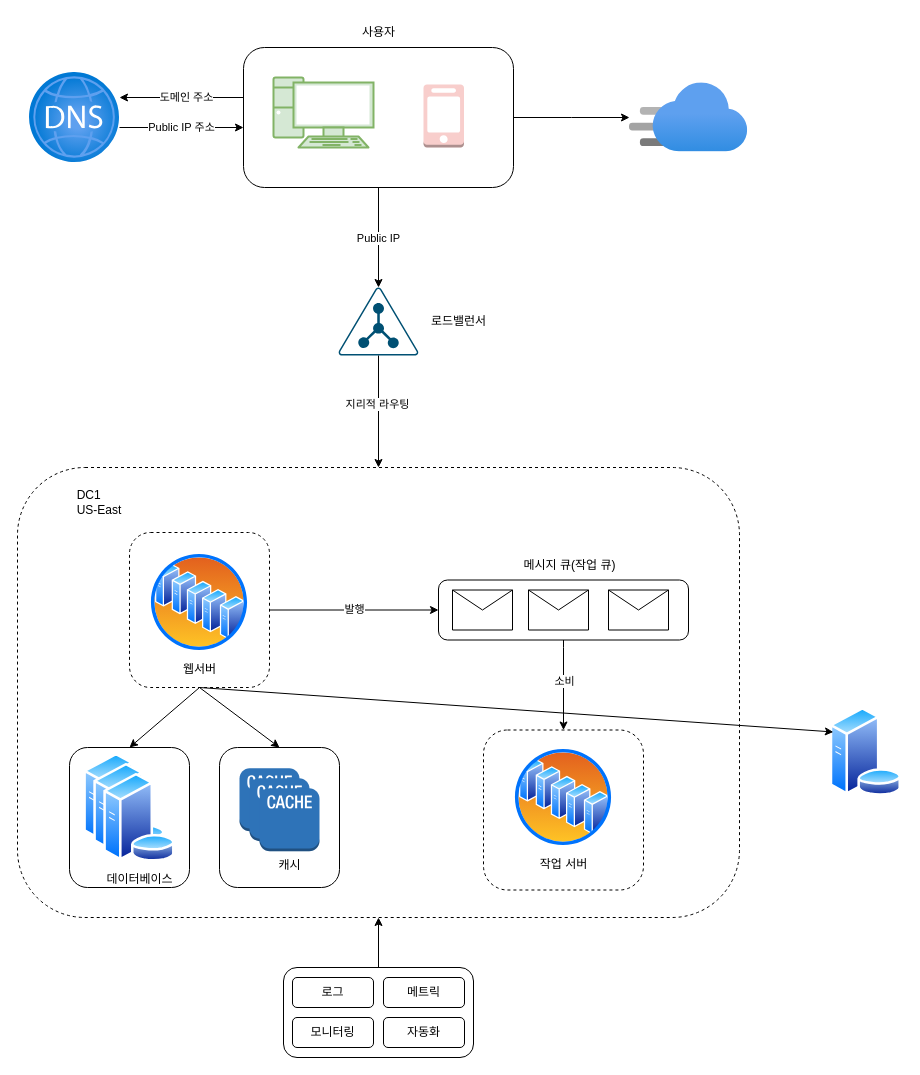
Image size: 920x1075. Some labels were removed from this diagram. Here are the shapes that lost their labels. From the top down, the centre of each, then its label:
At (x=323, y=112): "웹 브라우저".
At (x=443, y=116): "모바일 앱".
At (x=688, y=117): "CDN".
At (x=865, y=751): "NoSQL".
